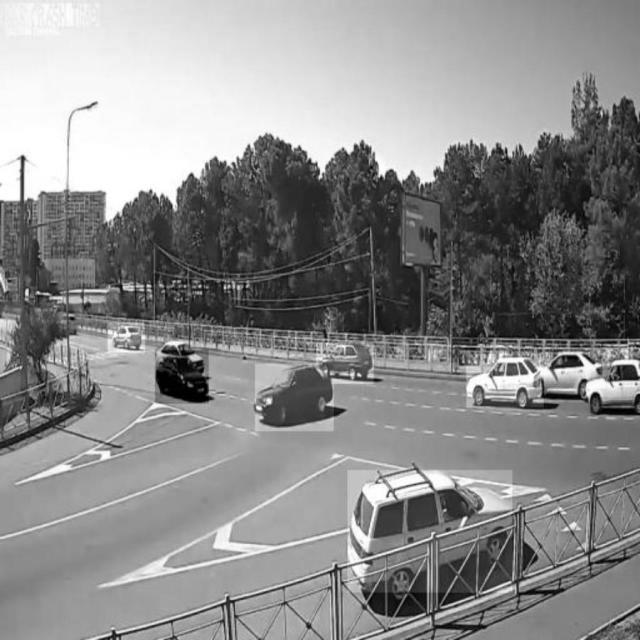vehicle: (348, 469, 513, 593), (256, 364, 334, 431), (467, 354, 544, 408), (155, 350, 209, 404), (542, 345, 597, 397), (588, 362, 640, 414), (317, 343, 374, 384), (108, 323, 145, 353)
